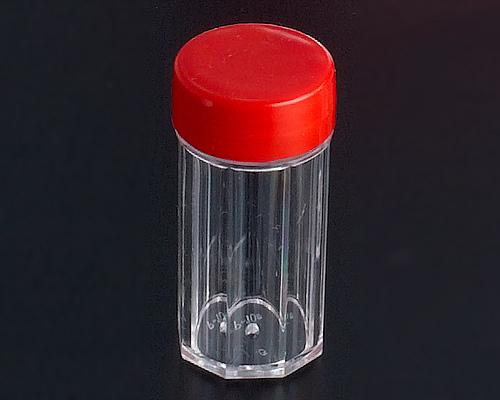medicinejar: (165, 18, 342, 385)
